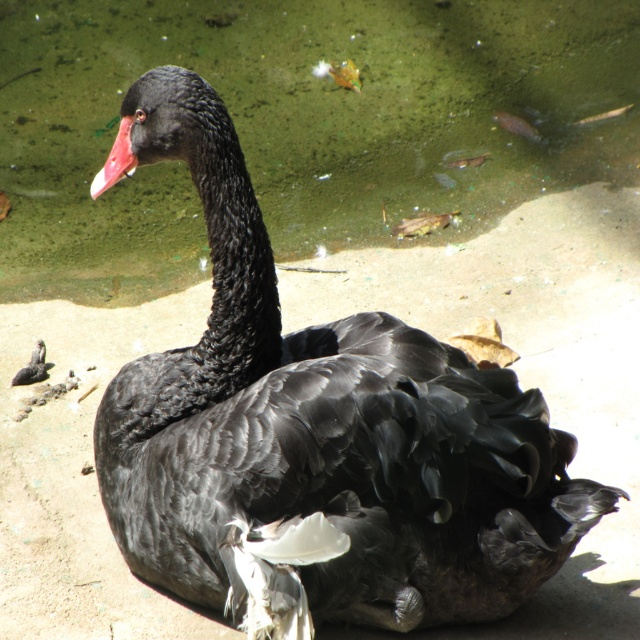Duck: (89, 61, 632, 639)
